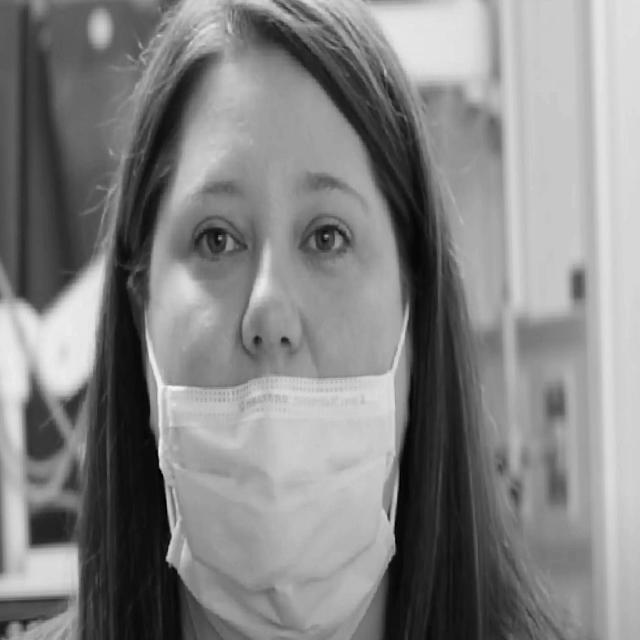hairnet: (156, 170, 406, 640)
